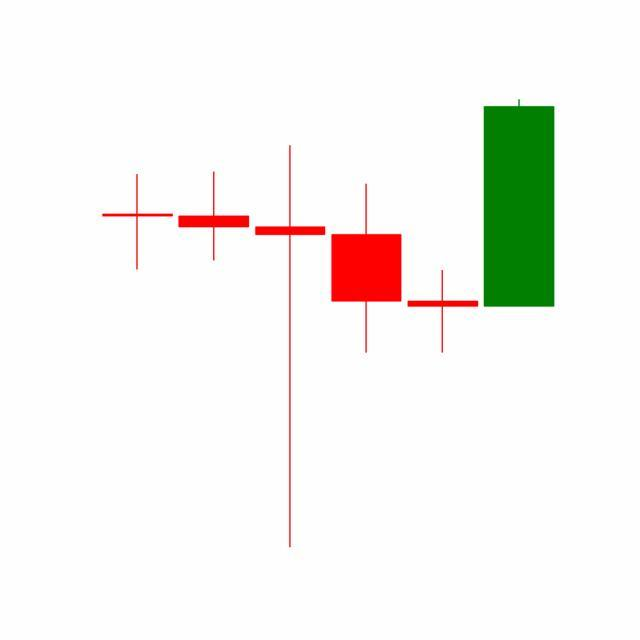Spinning Top: (404, 269, 482, 355)
